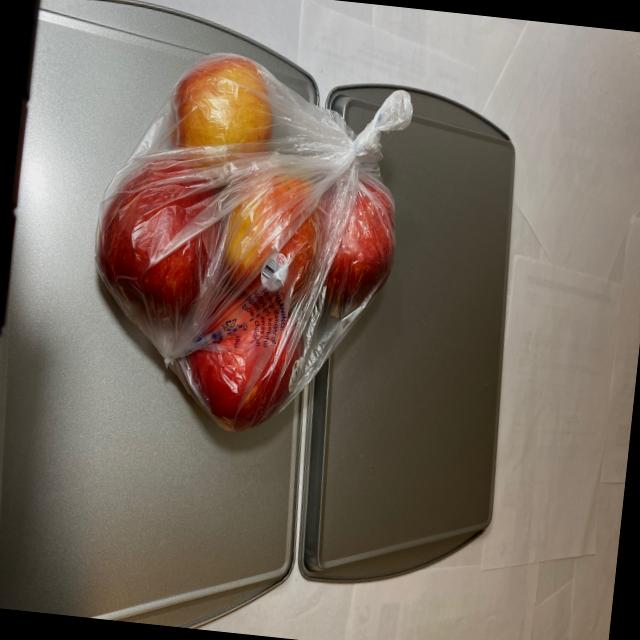apple: (80, 32, 414, 458)
